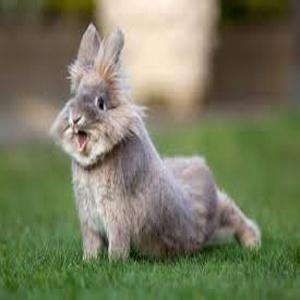rabbit: (49, 22, 262, 261)
